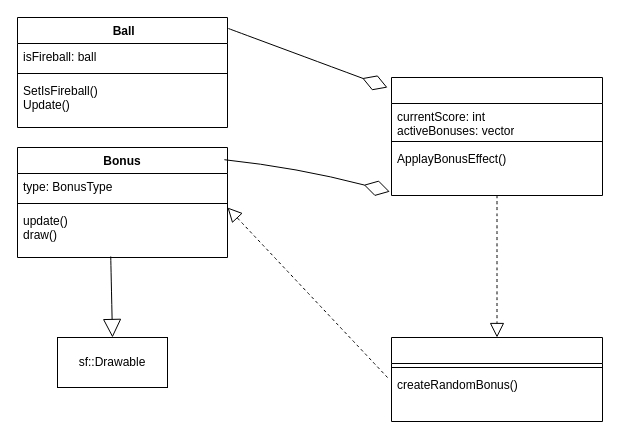
The diagram is 620 pixels wide and 442 high, and some of its shapes have lost their labels. Each missing label, with the box of its shape:
BonusFactory: (390, 336, 602, 422)
GameStatePlayingData: (390, 76, 602, 196)
